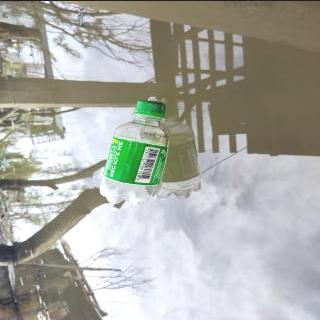bottle: (98, 97, 170, 208)
